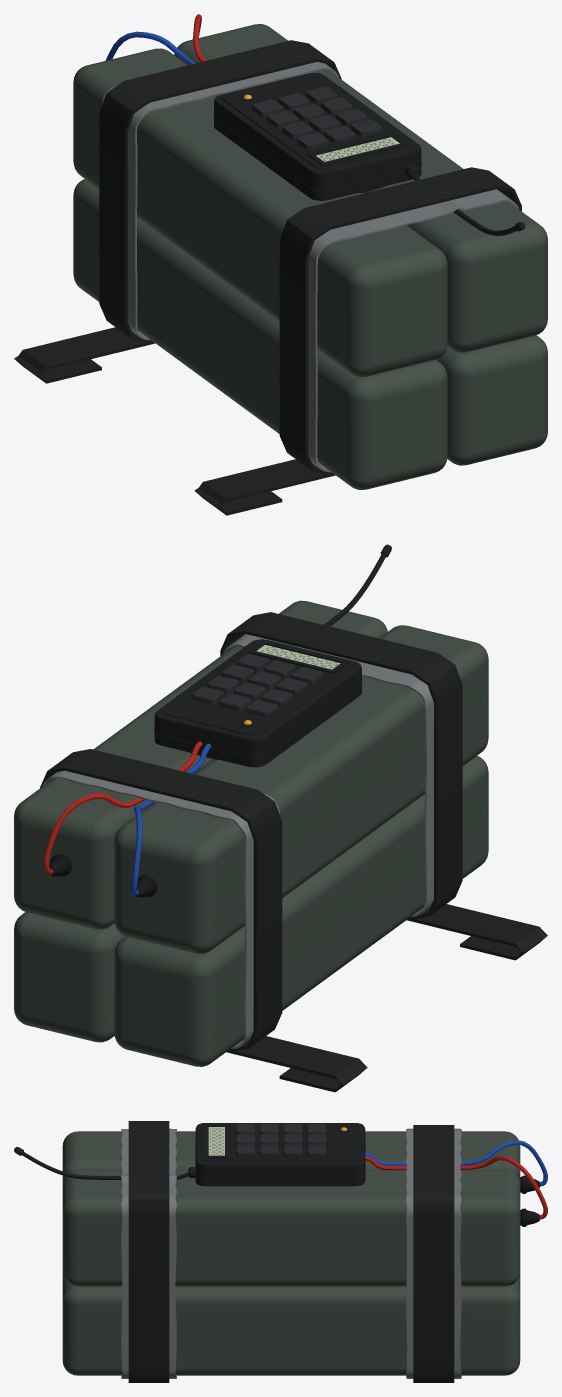
The model's file is bomb.glb.
3 views of the same model, one above another, from view 1: azimuth 30°, elevation 25°; view 2: azimuth 150°, elevation 25°; view 3: azimuth 270°, elevation 25° (orthographic). The views are drawn at different scales.
Parts seen in each view (by area): view 1: Bomb, Carry; view 2: Bomb, Carry; view 3: Bomb, Carry.
Boxes of the visible parts, x1,y1,x2,y2 form: Bomb: (73, 14, 547, 489); Carry: (14, 40, 521, 515); Bomb: (14, 544, 488, 1066); Carry: (40, 612, 547, 1092); Bomb: (14, 1123, 547, 1378); Carry: (128, 1121, 454, 1382).
Bounding box in the file's own units: 0.163 × 0.1509 × 0.315.
